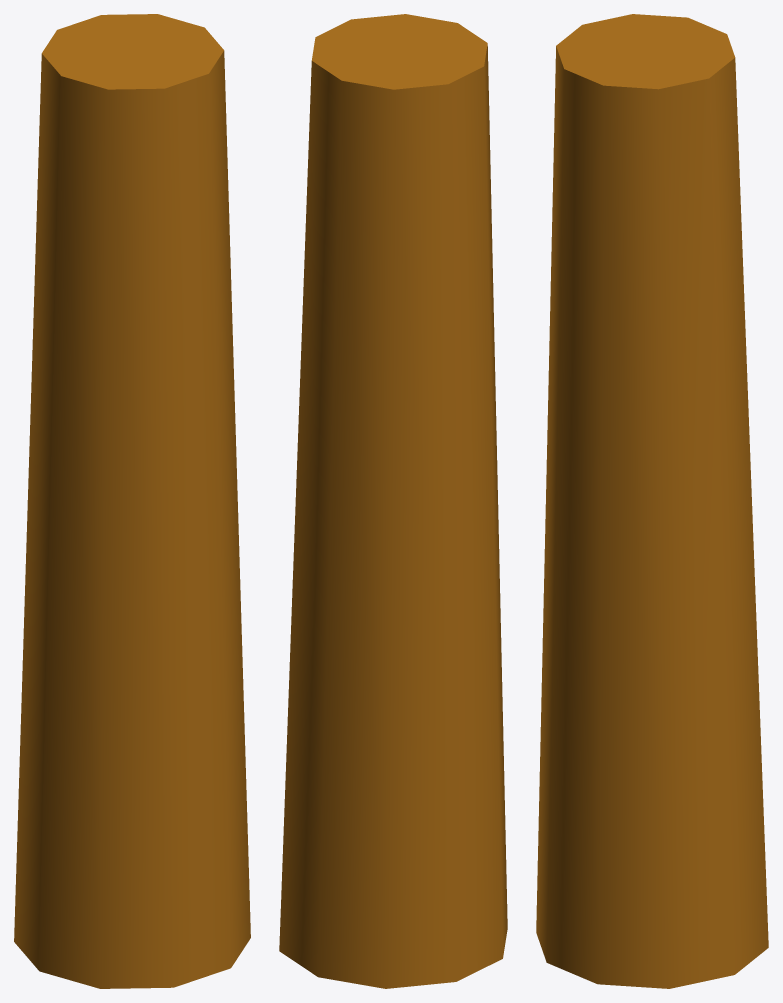
The model's file is Pillar.fbx.
3 renders of one model, left to right at view 1: azimuth 30°, elevation 25°; view 2: azimuth 150°, elevation 25°; view 3: azimuth 270°, elevation 25°, orthographic.
Parts seen in each view (by area): view 1: Pillar; view 2: Pillar; view 3: Pillar.
Part boxes in pixels (left/top/right/bottom): Pillar: left=14, top=14, right=250, bottom=988; Pillar: left=279, top=14, right=507, bottom=988; Pillar: left=536, top=14, right=768, bottom=988.
Bounding box in the file's own units: 0.6769 × 2.84 × 0.6741.
